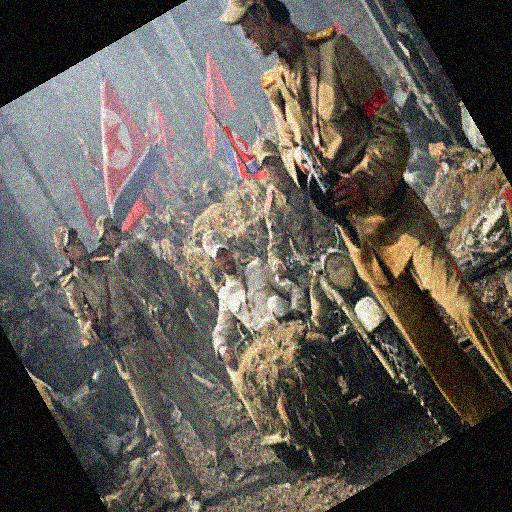north army: (205, 0, 512, 425), (40, 201, 243, 493)
